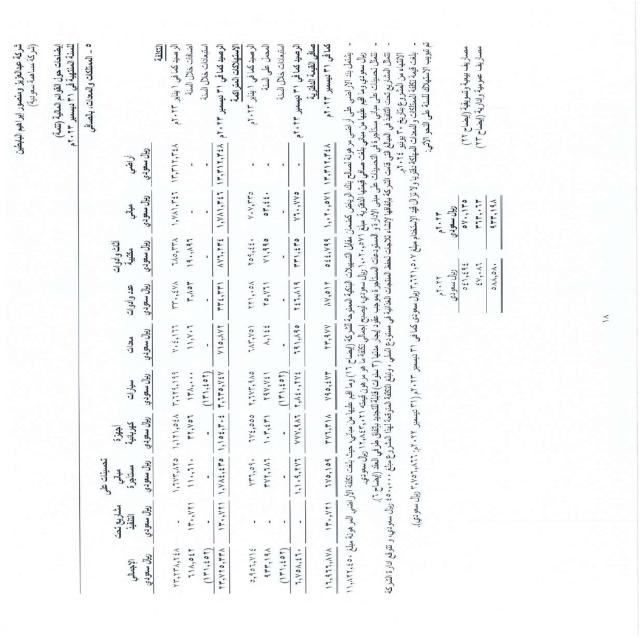notes: (50, 42, 62, 150)
table: (110, 43, 516, 604)
